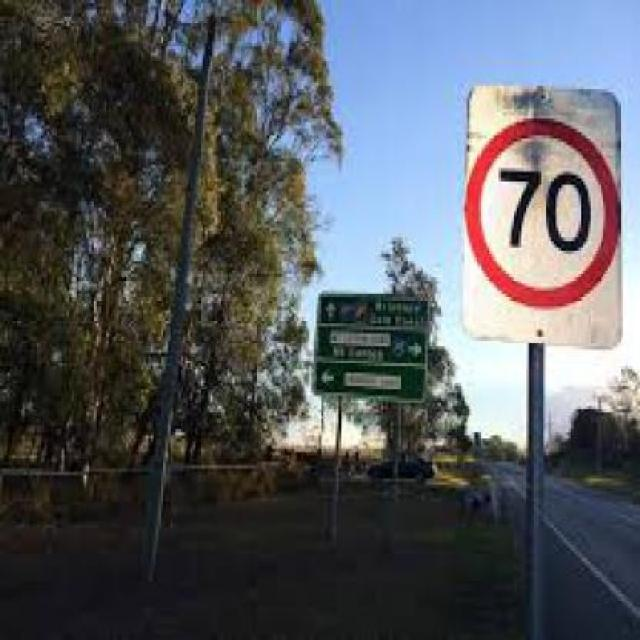forb_speed_over_70: (462, 122, 623, 320)
